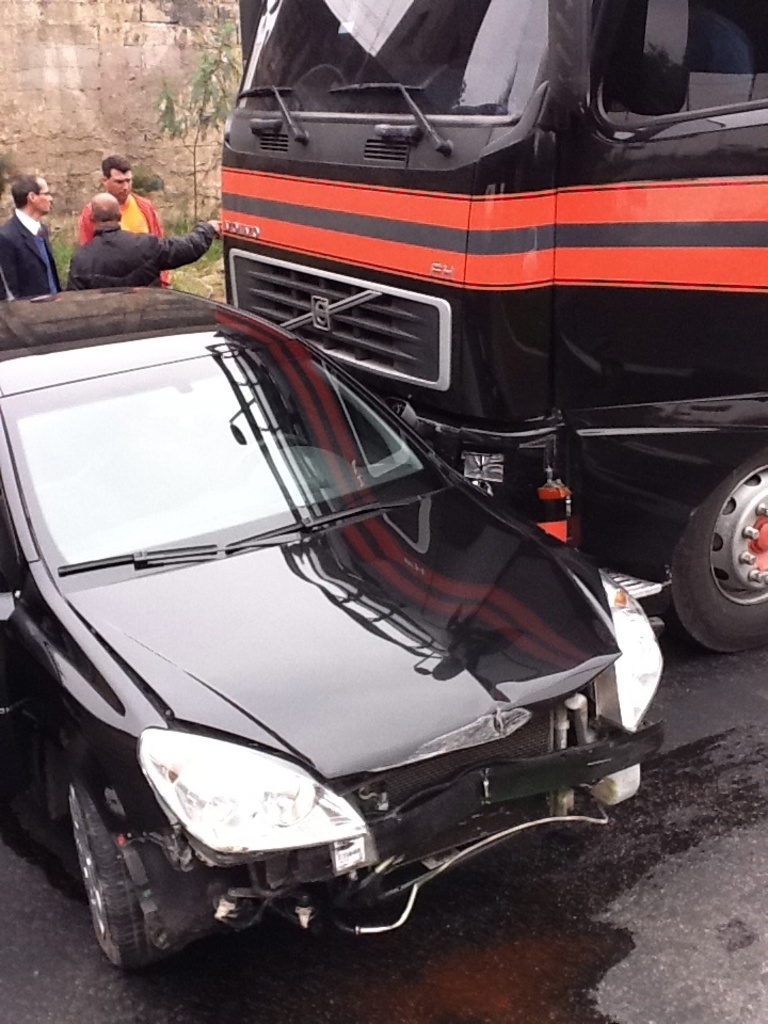person: (77, 151, 165, 245)
